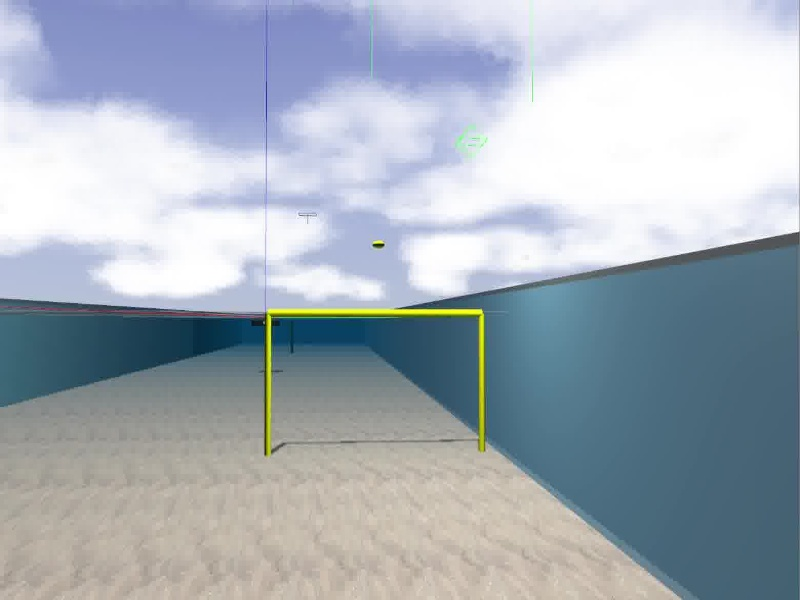gate: (263, 309, 487, 455)
